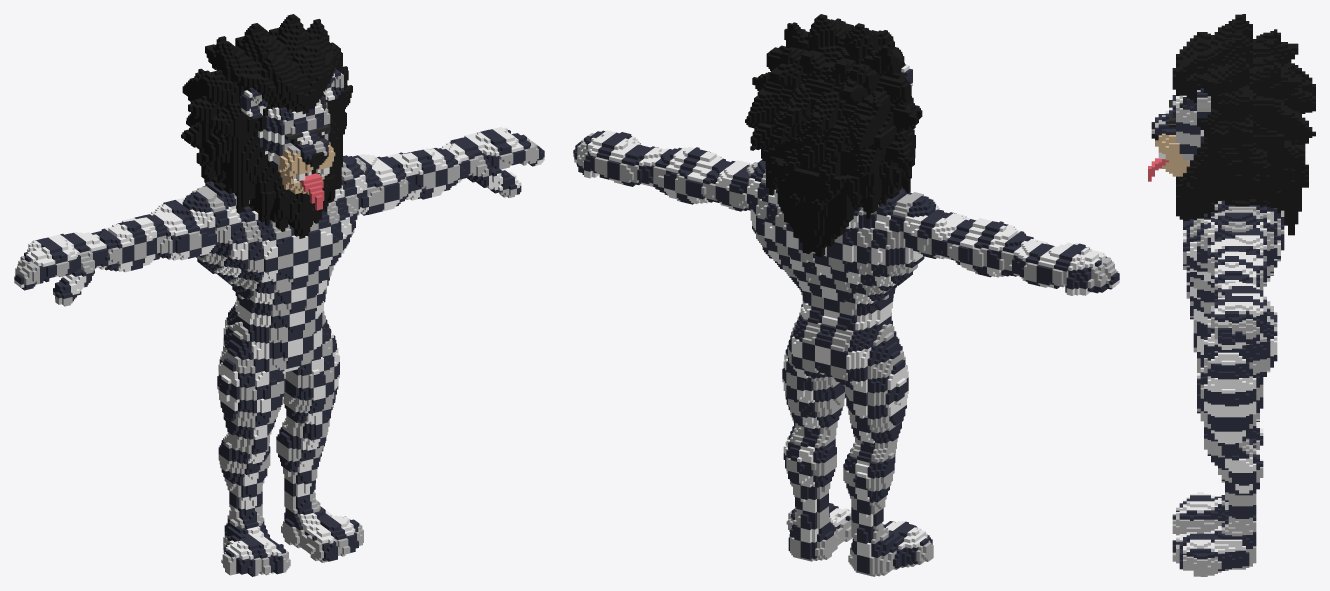
The model's file is 215-eXqjcbF7.glb.
3 renders of one model, left to right at view 1: azimuth 30°, elevation 25°; view 2: azimuth 150°, elevation 25°; view 3: azimuth 270°, elevation 25°, orthographic. The views are drawn at different scales.
Visible parts, largest first — view 1: tongue_out; view 2: tongue_out; view 3: tongue_out.
Part boxes in pixels (x1,y1,x2,y2): tongue_out: (14, 14, 544, 576); tongue_out: (573, 14, 1119, 576); tongue_out: (1148, 14, 1315, 576).
Bounding box in the file's own units: 17.2 × 16.5 × 4.8.
Materials: 4 (4 with a texture image).
